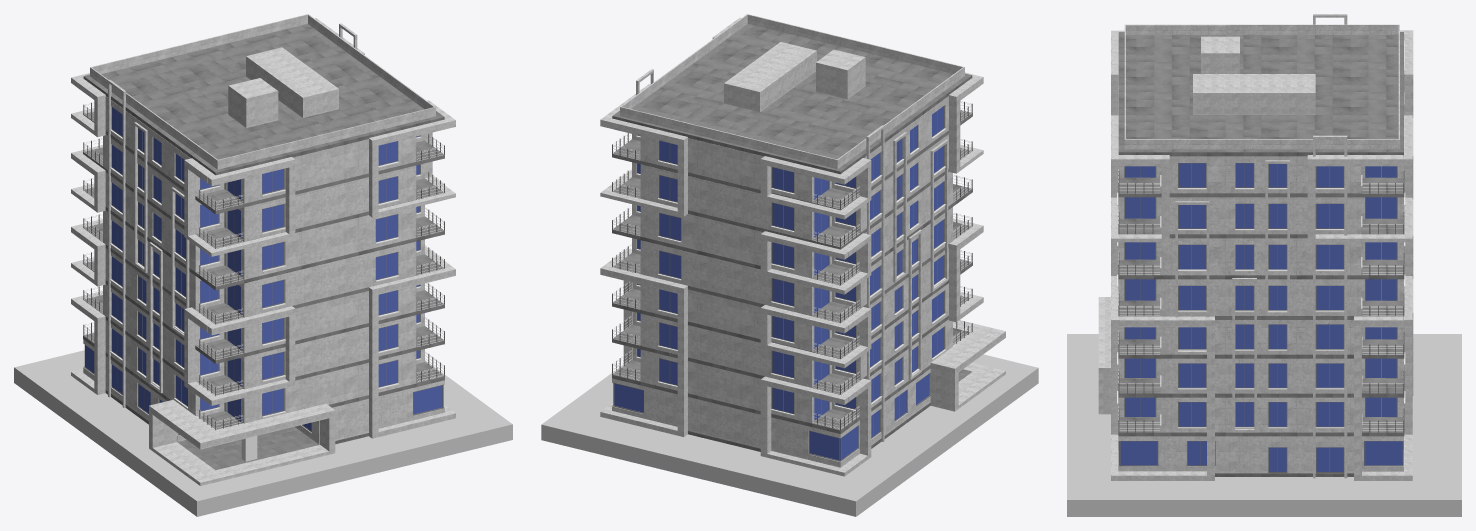
The model's file is cikasda.glb.
The picture shows the model from 3 angles, left to right: view 1: azimuth 30°, elevation 25°; view 2: azimuth 150°, elevation 25°; view 3: azimuth 270°, elevation 25°; orthographic projection. The views are drawn at different scales.
Parts seen in each view (by area): view 1: Rectangle121, Rectangle122, Line418, Line397, Line081, Line247, Line297, Line029, Line002, Line347, Line055, Line001 (+23 smaller); view 2: Rectangle122, Rectangle121, Line001, Line397, Line081, Line297, Line029, Line247, Line002, Line347, Line055, Line418 (+24 smaller); view 3: Rectangle122, Rectangle121, Line397, Line001, Box558, Line247, Line411, Line081, Line297, Line029, Line347, Line002 (+22 smaller).
Boxes of the visible parts, x1=… form: Rectangle121: x1=83, y1=24, x2=444, y2=175; Rectangle122: x1=14, y1=350, x2=512, y2=516; Line418: x1=149, y1=399, x2=335, y2=485; Line397: x1=90, y1=14, x2=435, y2=169; Line081: x1=103, y1=210, x2=424, y2=317; Line247: x1=105, y1=172, x2=424, y2=279; Line297: x1=103, y1=134, x2=424, y2=241; Line029: x1=103, y1=284, x2=424, y2=389; Line002: x1=105, y1=320, x2=424, y2=423; Line347: x1=105, y1=96, x2=424, y2=203; Line055: x1=105, y1=248, x2=424, y2=353; Line001: x1=83, y1=339, x2=444, y2=444; Rectangle122: x1=541, y1=354, x2=1038, y2=516; Rectangle121: x1=612, y1=24, x2=972, y2=174; Line001: x1=612, y1=368, x2=930, y2=467; Line397: x1=620, y1=14, x2=964, y2=169; Line081: x1=632, y1=207, x2=952, y2=315; Line297: x1=632, y1=134, x2=948, y2=240; Line029: x1=633, y1=283, x2=948, y2=387; Line247: x1=632, y1=172, x2=952, y2=278; Line002: x1=633, y1=319, x2=952, y2=423; Line347: x1=632, y1=96, x2=948, y2=202; Line055: x1=633, y1=247, x2=948, y2=351; Line418: x1=929, y1=320, x2=1005, y2=411; Rectangle122: x1=1067, y1=334, x2=1461, y2=516; Rectangle121: x1=1118, y1=32, x2=1403, y2=156; Line397: x1=1124, y1=24, x2=1399, y2=149; Line001: x1=1118, y1=436, x2=1403, y2=473; Box558: x1=1193, y1=74, x2=1315, y2=114; Line247: x1=1118, y1=238, x2=1403, y2=275; Line411: x1=1111, y1=276, x2=1214, y2=480; Line081: x1=1118, y1=279, x2=1403, y2=315; Line297: x1=1118, y1=197, x2=1403, y2=234; Line029: x1=1118, y1=358, x2=1403, y2=393; Line347: x1=1118, y1=76, x2=1403, y2=193; Line002: x1=1118, y1=397, x2=1403, y2=432.
Size of the model in its own units: 27.54 by 28.8 by 27.65.
10 materials, 3 textured.
